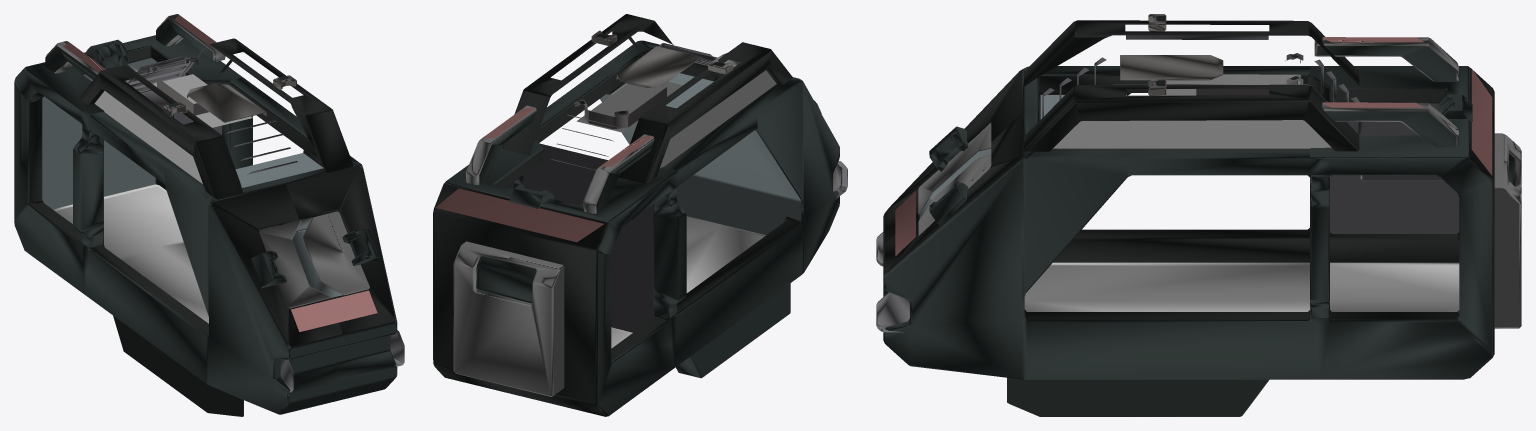
The model's file is landingpad_support_arm_addon_a.glb.
The picture shows the model from 3 angles, left to right: view 1: azimuth 30°, elevation 25°; view 2: azimuth 150°, elevation 25°; view 3: azimuth 270°, elevation 25°; orthographic projection. The views are drawn at different scales.
Size of the model in its own units: 15.04 by 22.23 by 39.97.
